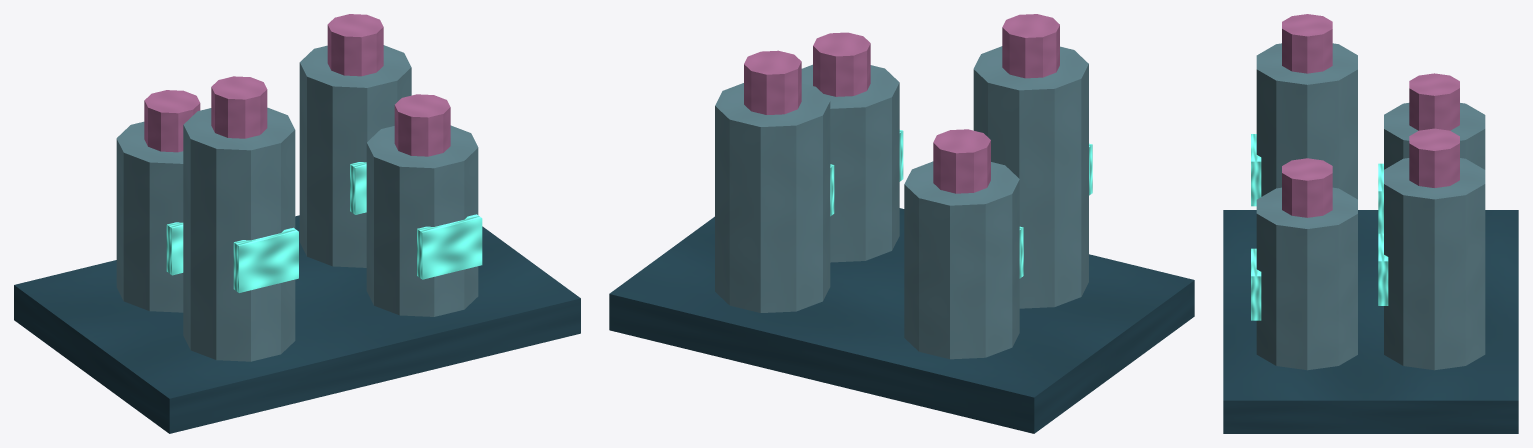
The model's file is atlas100-s061-a04.glb.
3 renders of one model, left to right at view 1: azimuth 30°, elevation 25°; view 2: azimuth 150°, elevation 25°; view 3: azimuth 270°, elevation 25°, orthographic. The views are drawn at different scales.
Parts seen in each view (by area): view 1: atlas100-s061-a04:part-000, atlas100-s061-a04:part-007, atlas100-s061-a04:part-010, atlas100-s061-a04:part-004, atlas100-s061-a04:part-001, atlas100-s061-a04:part-012, atlas100-s061-a04:part-009, atlas100-s061-a04:part-011, atlas100-s061-a04:part-005, atlas100-s061-a04:part-008, atlas100-s061-a04:part-002, atlas100-s061-a04:part-003 (+1 smaller); view 2: atlas100-s061-a04:part-000, atlas100-s061-a04:part-004, atlas100-s061-a04:part-007, atlas100-s061-a04:part-001, atlas100-s061-a04:part-010, atlas100-s061-a04:part-002, atlas100-s061-a04:part-008, atlas100-s061-a04:part-005, atlas100-s061-a04:part-011; view 3: atlas100-s061-a04:part-000, atlas100-s061-a04:part-004, atlas100-s061-a04:part-010, atlas100-s061-a04:part-007, atlas100-s061-a04:part-001, atlas100-s061-a04:part-005, atlas100-s061-a04:part-011, atlas100-s061-a04:part-008, atlas100-s061-a04:part-002, atlas100-s061-a04:part-012, atlas100-s061-a04:part-006, atlas100-s061-a04:part-009 (+1 smaller).
Boxes of the visible parts, box(x1,y1,x2,y2) form: atlas100-s061-a04:part-000: box(14, 215, 580, 433); atlas100-s061-a04:part-007: box(183, 107, 295, 361); atlas100-s061-a04:part-010: box(366, 125, 478, 316); atlas100-s061-a04:part-004: box(299, 45, 411, 267); atlas100-s061-a04:part-001: box(116, 121, 183, 312); atlas100-s061-a04:part-012: box(417, 214, 482, 279); atlas100-s061-a04:part-009: box(233, 227, 298, 292); atlas100-s061-a04:part-011: box(394, 94, 450, 156); atlas100-s061-a04:part-005: box(327, 14, 383, 76); atlas100-s061-a04:part-008: box(211, 76, 267, 138); atlas100-s061-a04:part-002: box(144, 90, 200, 152); atlas100-s061-a04:part-003: box(166, 222, 183, 275); atlas100-s061-a04:part-000: box(609, 208, 1194, 433); atlas100-s061-a04:part-004: box(715, 83, 830, 312); atlas100-s061-a04:part-007: box(973, 46, 1088, 308); atlas100-s061-a04:part-001: box(904, 161, 1019, 359); atlas100-s061-a04:part-010: box(801, 64, 899, 262); atlas100-s061-a04:part-002: box(933, 129, 990, 193); atlas100-s061-a04:part-008: box(1002, 14, 1059, 78); atlas100-s061-a04:part-005: box(744, 50, 801, 114); atlas100-s061-a04:part-011: box(813, 32, 870, 96); atlas100-s061-a04:part-000: box(1223, 210, 1518, 433); atlas100-s061-a04:part-004: box(1384, 158, 1485, 370); atlas100-s061-a04:part-010: box(1256, 187, 1357, 370); atlas100-s061-a04:part-007: box(1256, 43, 1357, 199); atlas100-s061-a04:part-001: box(1384, 103, 1485, 169); atlas100-s061-a04:part-005: box(1409, 128, 1459, 187); atlas100-s061-a04:part-011: box(1282, 158, 1332, 217); atlas100-s061-a04:part-008: box(1282, 14, 1332, 73); atlas100-s061-a04:part-002: box(1409, 73, 1459, 130); atlas100-s061-a04:part-012: box(1251, 248, 1261, 320); atlas100-s061-a04:part-006: box(1378, 233, 1388, 305); atlas100-s061-a04:part-009: box(1251, 134, 1261, 206).
Size of the model in its own units: 1.18 by 0.7804 by 0.7697.
4 materials, 4 textured.
